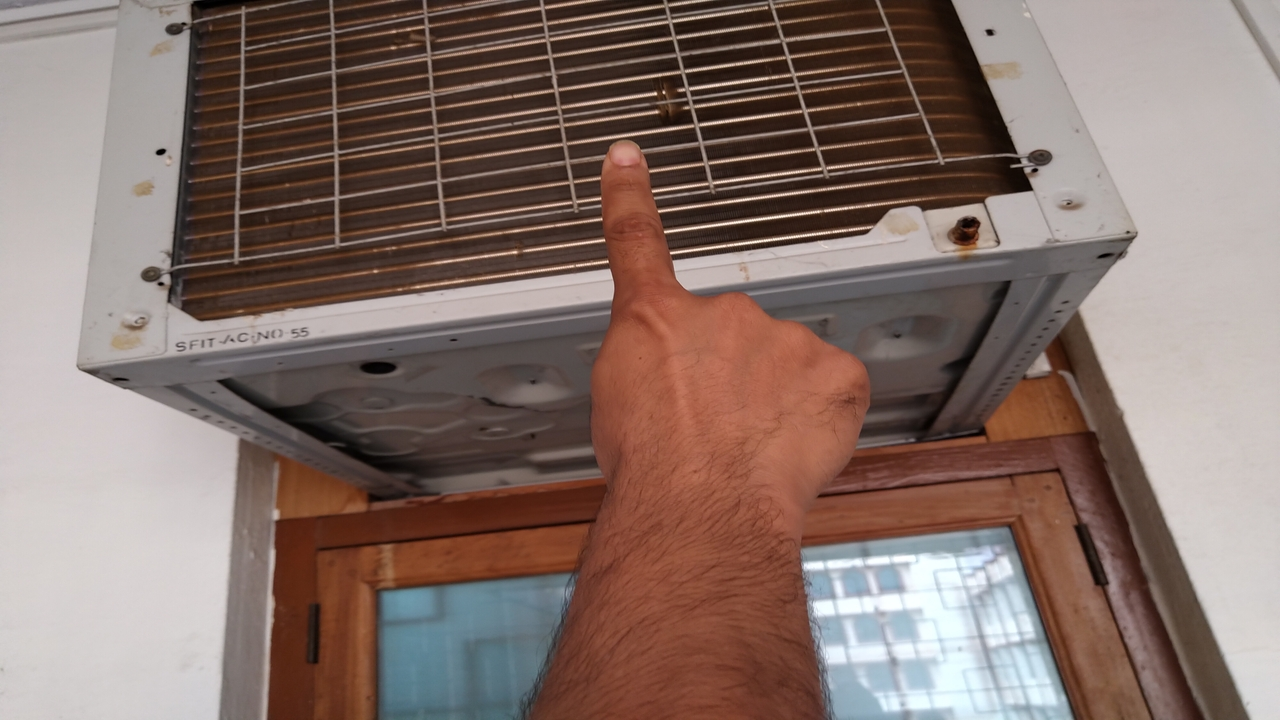fingertip: (594, 130, 654, 186)
